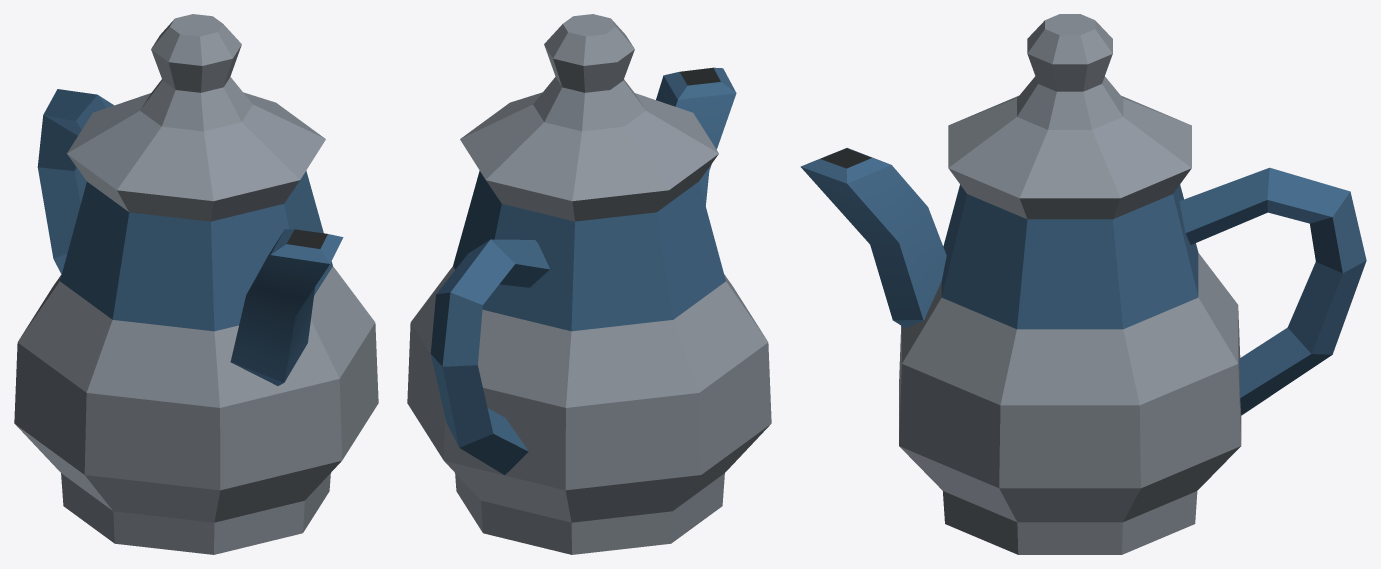
File: SM_Prop_TeaPot_03.glb
The picture shows the model from 3 angles, left to right: view 1: azimuth 30°, elevation 25°; view 2: azimuth 150°, elevation 25°; view 3: azimuth 270°, elevation 25°; orthographic projection.
Parts seen in each view (by area): view 1: SM_Prop_TeaPot_03; view 2: SM_Prop_TeaPot_03; view 3: SM_Prop_TeaPot_03.
Boxes of the visible parts, x1,y1,x2,y2 form: SM_Prop_TeaPot_03: (14,14,378,554); SM_Prop_TeaPot_03: (407,14,771,554); SM_Prop_TeaPot_03: (800,14,1366,554).
Bounding box in the file's own units: 0.2208 × 0.3398 × 0.3652.
Materials: 1 (1 with a texture image).
